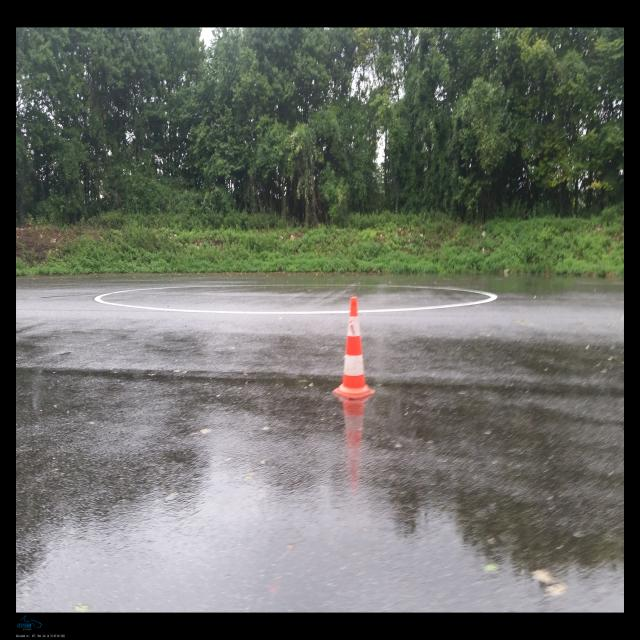large_orange_cone: (333, 296, 375, 399)
